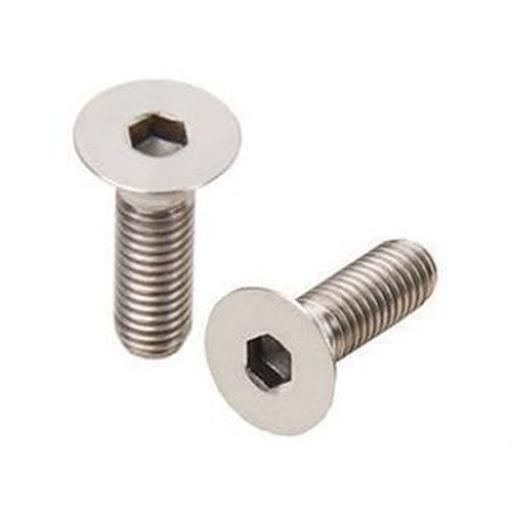Hex-Allen: (203, 284, 335, 439), (71, 76, 241, 192)
